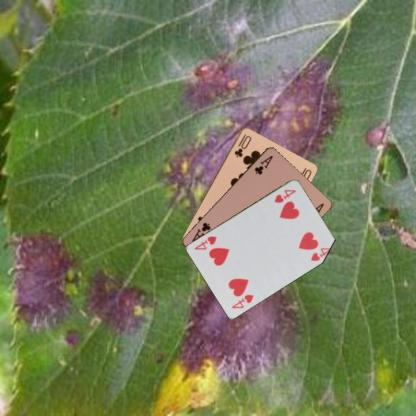10c: (232, 131, 252, 158)
4h: (229, 291, 255, 310), (272, 187, 298, 204)
Ac: (252, 152, 274, 176)
